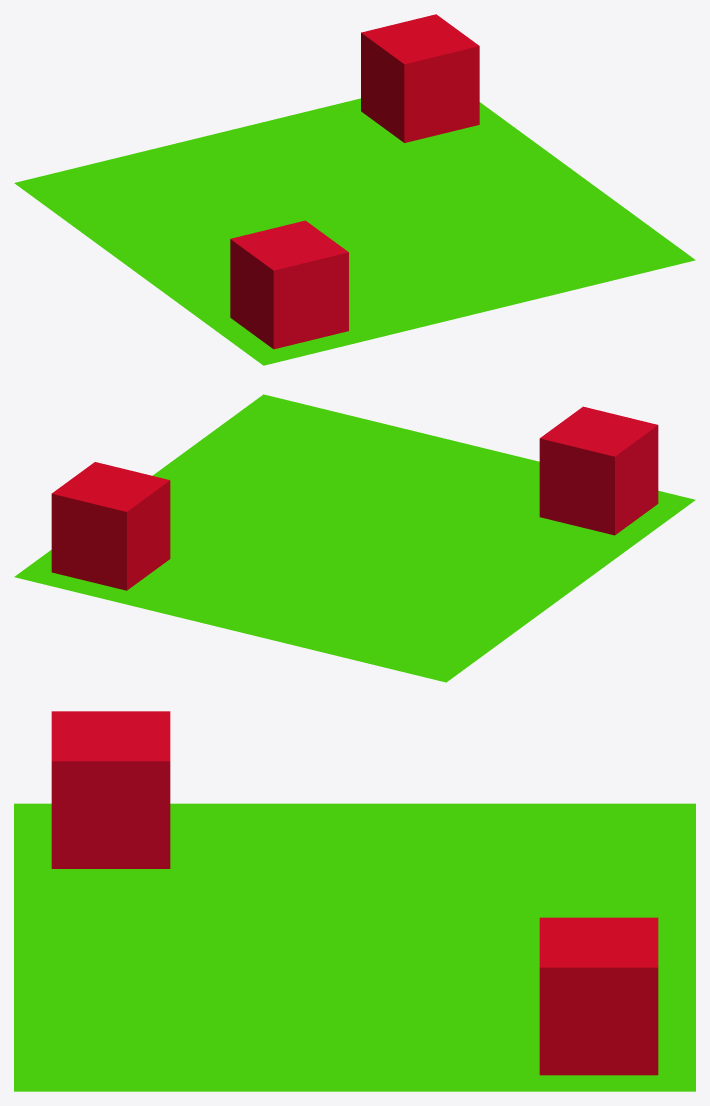
The model's file is plano.fbx.
3 renders of one model, top to bottom at view 1: azimuth 30°, elevation 25°; view 2: azimuth 150°, elevation 25°; view 3: azimuth 270°, elevation 25°, orthographic. The views are drawn at different scales.
Visible parts, largest first — view 1: Plane, Cube, Cube.001; view 2: Plane, Cube.001, Cube; view 3: Plane, Cube, Cube.001.
Boxes of the visible parts, <box> form: Plane: <box>14,98,695,365</box>; Cube: <box>361,14,479,142</box>; Cube.001: <box>230,220,348,349</box>; Plane: <box>14,394,695,682</box>; Cube.001: <box>539,406,658,535</box>; Cube: <box>51,462,170,590</box>; Plane: <box>14,803,695,1091</box>; Cube: <box>539,917,658,1075</box>; Cube.001: <box>51,711,170,868</box>.
Size of the model in its own units: 2068 by 362 by 2068.
